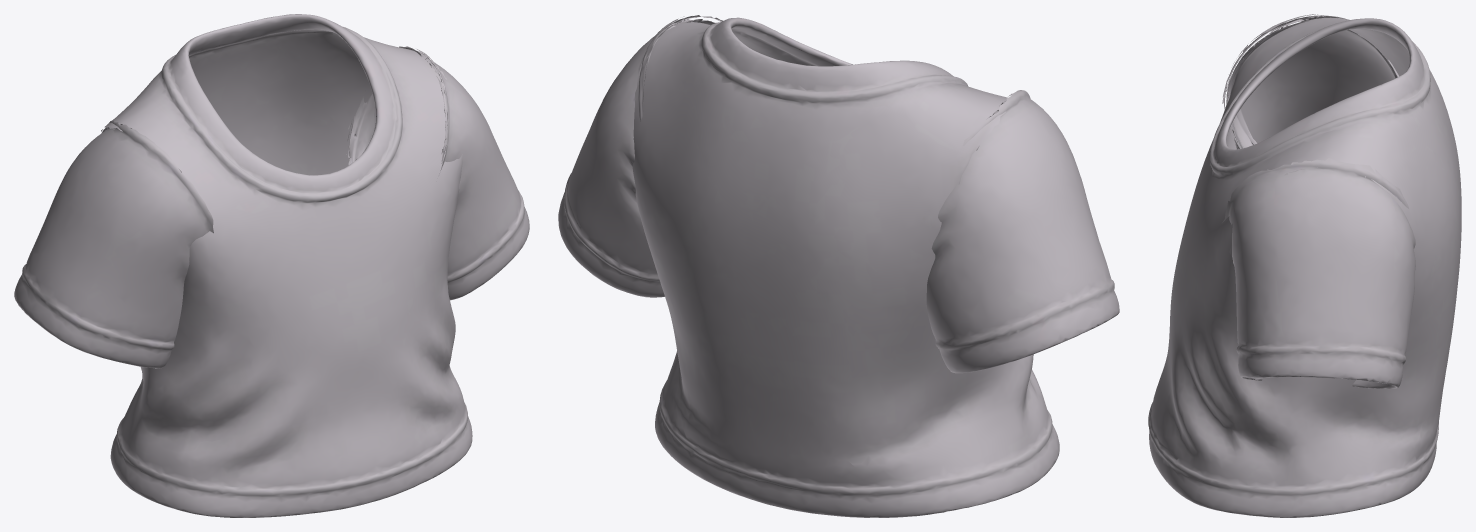
File: Funko Girl T-Shirt.glb
The picture shows the model from 3 angles, left to right: view 1: azimuth 30°, elevation 25°; view 2: azimuth 150°, elevation 25°; view 3: azimuth 270°, elevation 25°; orthographic projection. The views are drawn at different scales.
Parts seen in each view (by area): view 1: geometry_0.005, geometry_0.006, geometry_0.001; view 2: geometry_0.005, geometry_0.006, geometry_0.001; view 3: geometry_0.005, geometry_0.001, geometry_0.006.
Boxes of the visible parts, x1,y1,x2,y2 form: geometry_0.005: (101,14,472,517); geometry_0.006: (14,120,213,368); geometry_0.001: (346,46,529,300); geometry_0.005: (632,17,1059,517); geometry_0.006: (926,90,1119,373); geometry_0.001: (558,15,722,297); geometry_0.005: (1148,17,1461,517); geometry_0.001: (1222,158,1415,388); geometry_0.006: (1222,14,1399,149).
Size of the model in its own units: 0.4372 by 0.3431 by 0.2436.
1 material, 1 textured.
